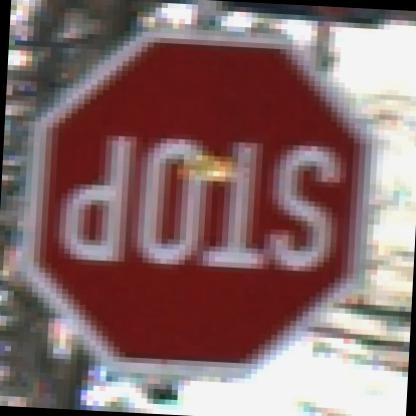stop: (10, 19, 384, 387)
